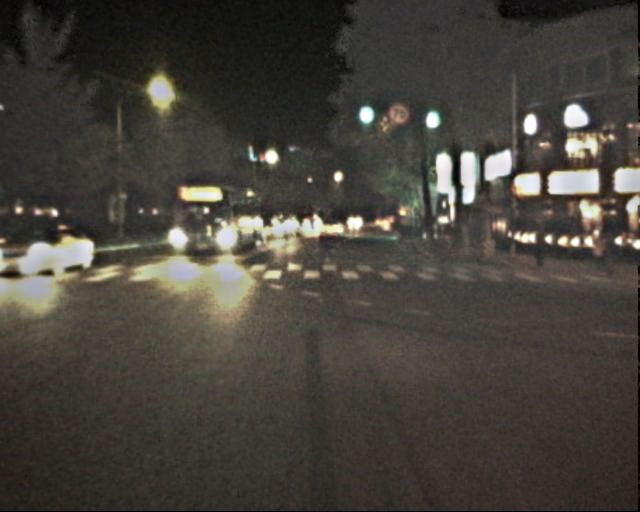person: (588, 230, 612, 278), (531, 229, 549, 272)
